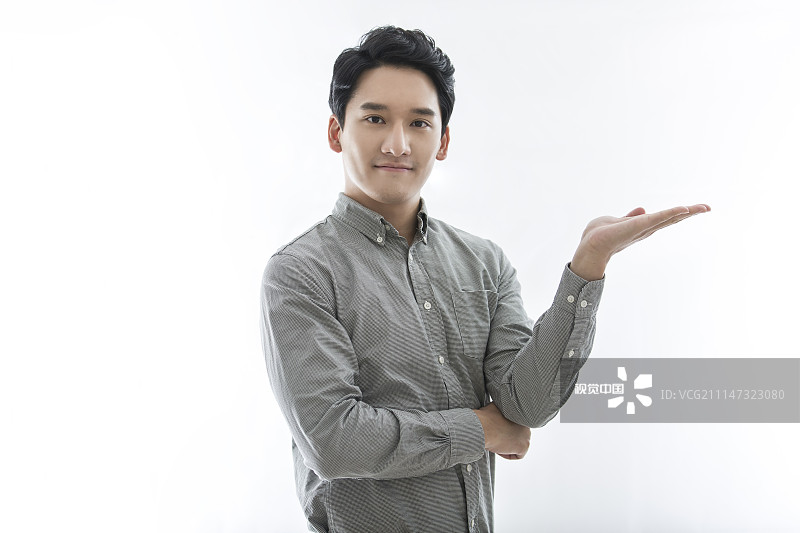no-phone: (568, 186, 733, 267)
